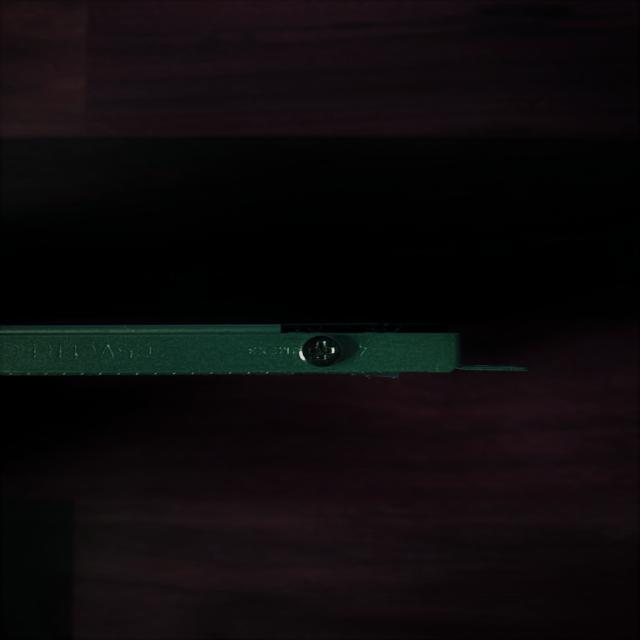PhillipsScrewHead: (299, 333, 343, 368)
